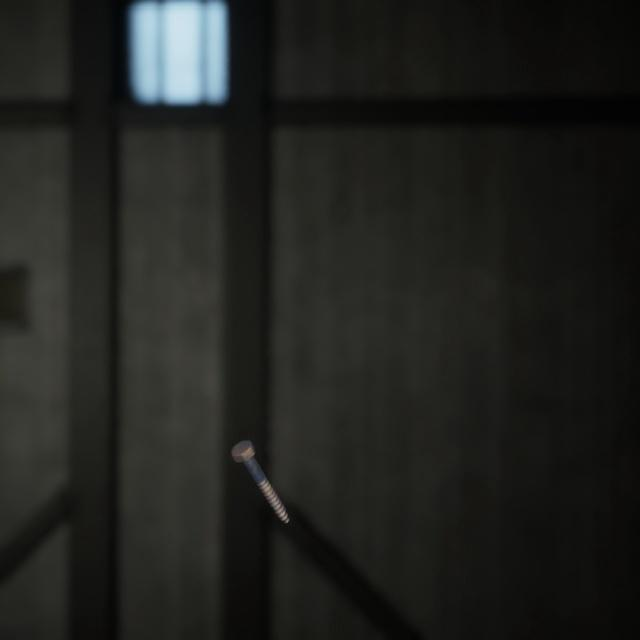bolt: (227, 414, 293, 506)
